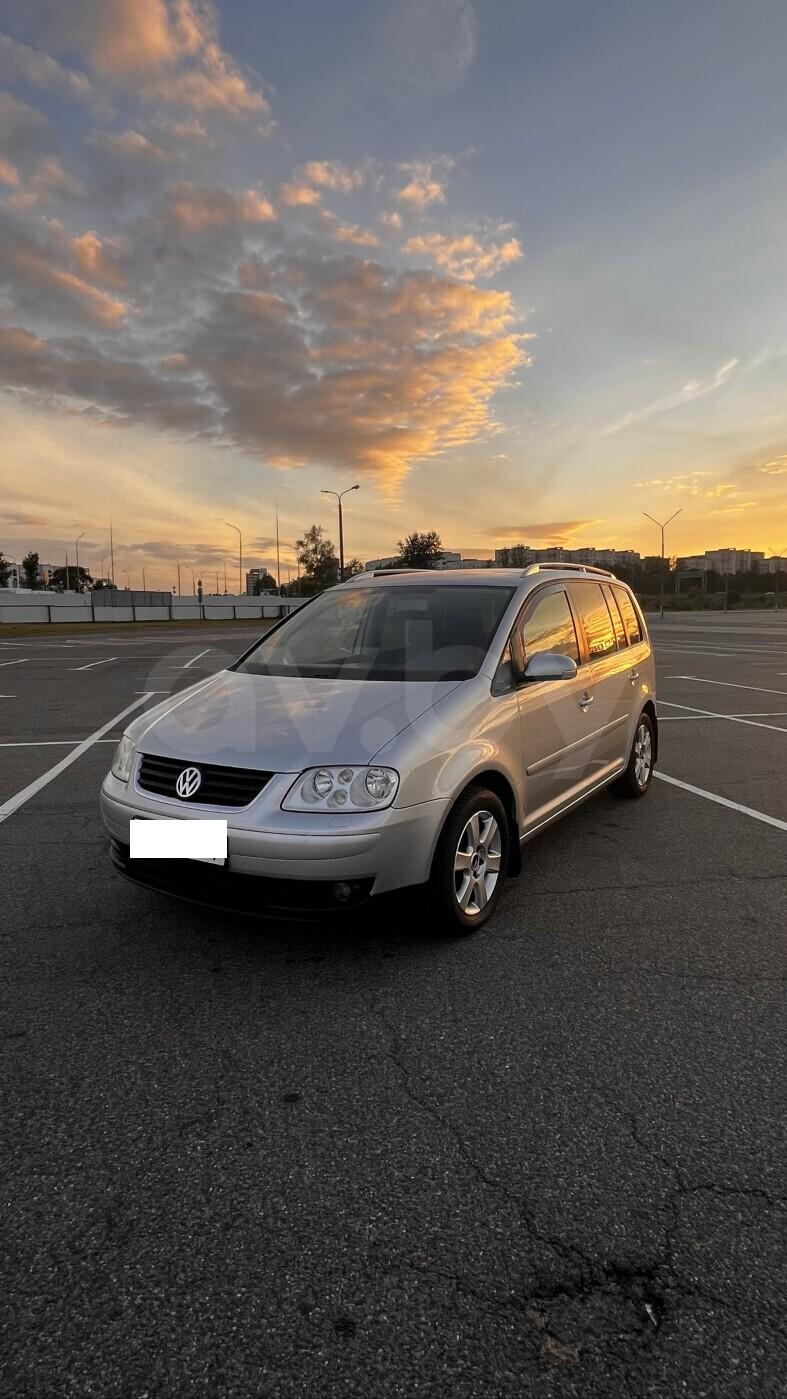Touran_2003-2006: (104, 562, 674, 938)
